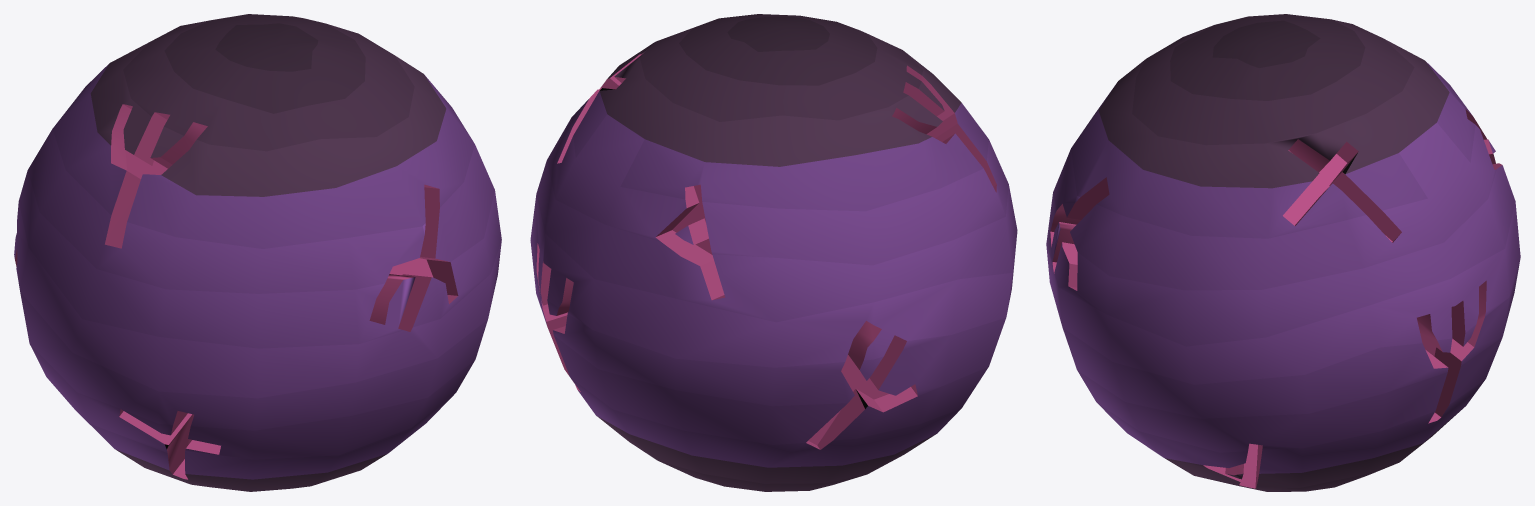
The model's file is Orb_Of_Destruction.fbx.
3 views of the same model, side by side, from view 1: azimuth 30°, elevation 25°; view 2: azimuth 150°, elevation 25°; view 3: azimuth 270°, elevation 25° (orthographic).
Visible parts, largest first — view 1: Orb_Of_Destruction; view 2: Orb_Of_Destruction; view 3: Orb_Of_Destruction.
Boxes of the visible parts, x1,y1,x2,y2 form: Orb_Of_Destruction: [14, 14, 501, 491]; Orb_Of_Destruction: [530, 14, 1017, 491]; Orb_Of_Destruction: [1046, 14, 1520, 491].
Bounding box in the file's own units: 61.72 × 60.36 × 60.49.
